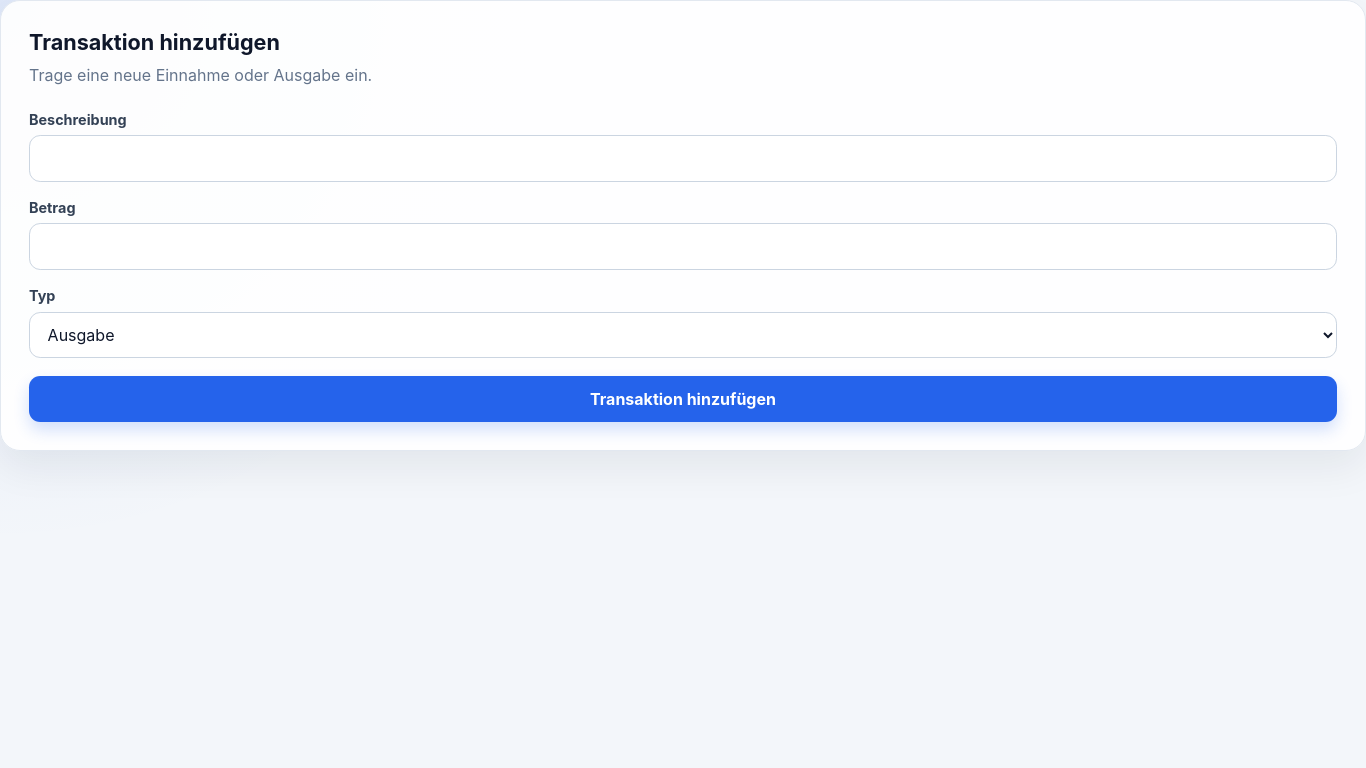
Test: BudgetForm › mockt validateTransaction und zeigt fehlermeldung bei fehlgeschlagenem stub
Type "Gehalt" into the field with id "transaction-description" at {"x": 683, "y": 158}, box [29,135,1337,182]
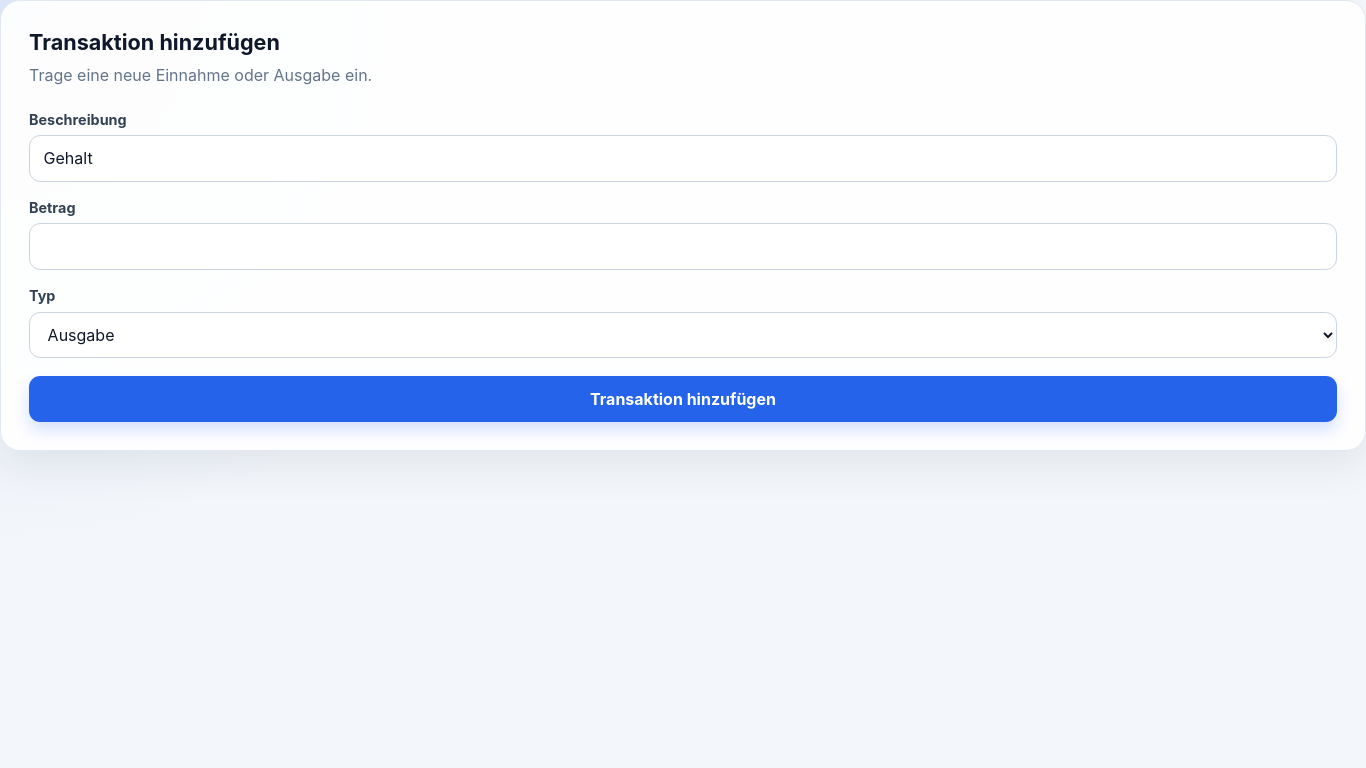
Type "2500" into the number field with id "transaction-amount" at {"x": 683, "y": 247}, box [29,223,1337,270]
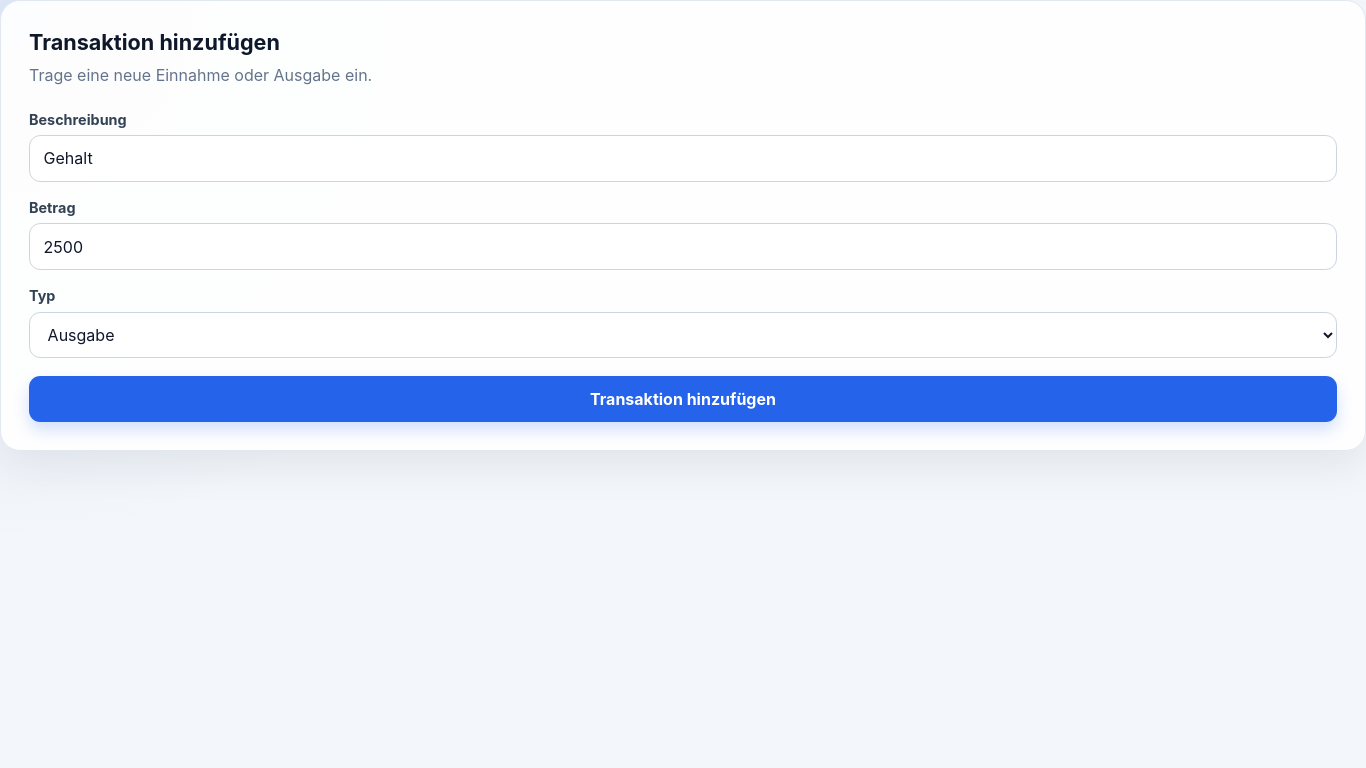
Select "Einnahme" in the dropdown with id "transaction-type" at {"x": 683, "y": 335}, box [29,312,1337,358]
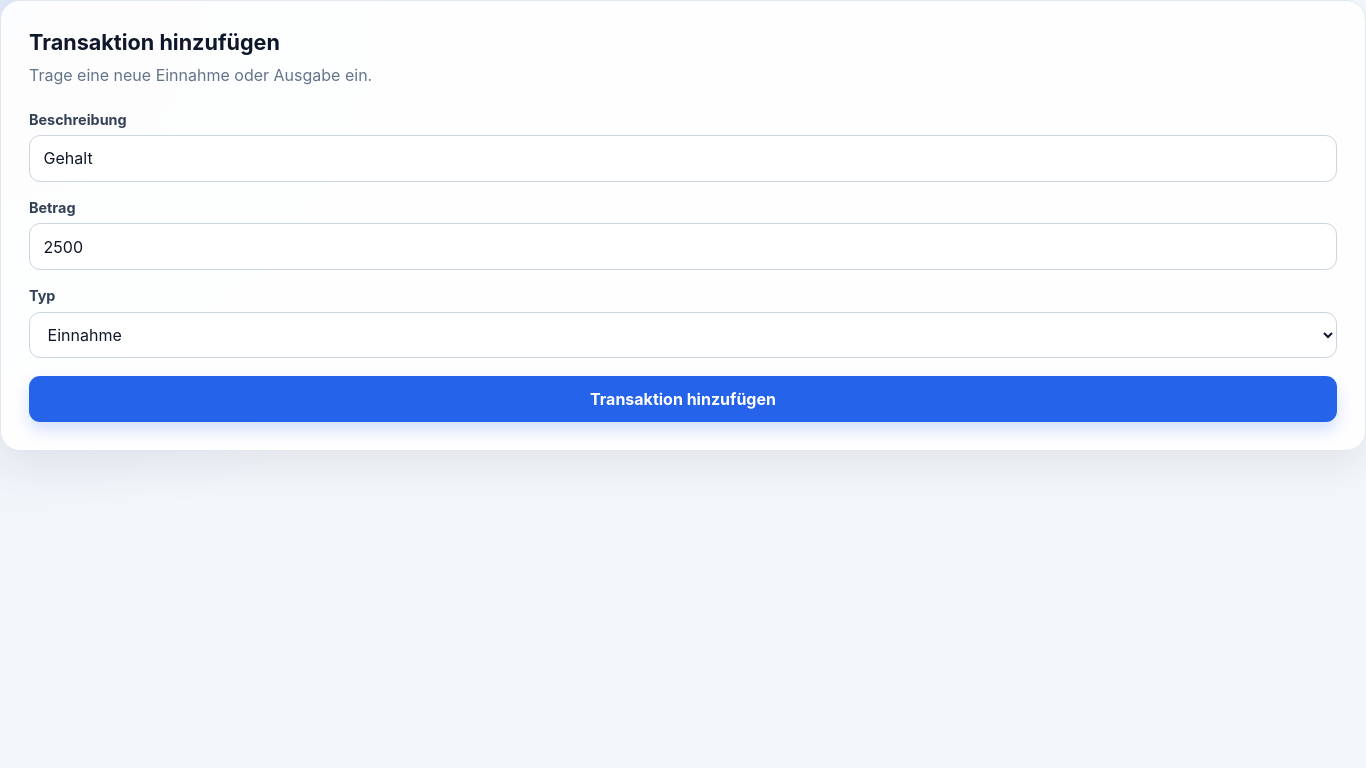
Submit the form, box [29,111,1337,422]
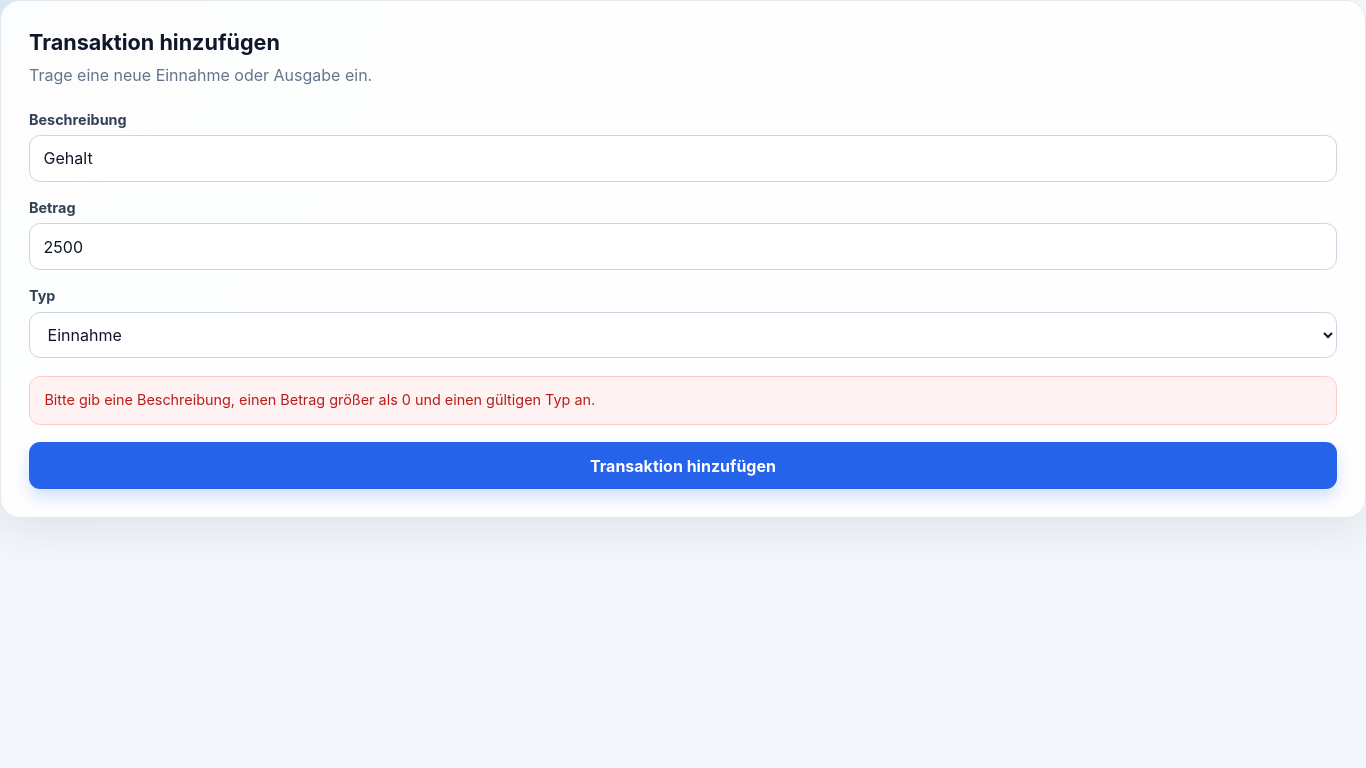
Check: the message shows "Bitte gib eine Beschreibung, einen Betrag größer als 0 und einen gültigen Typ an.", box [44,391,595,408]
